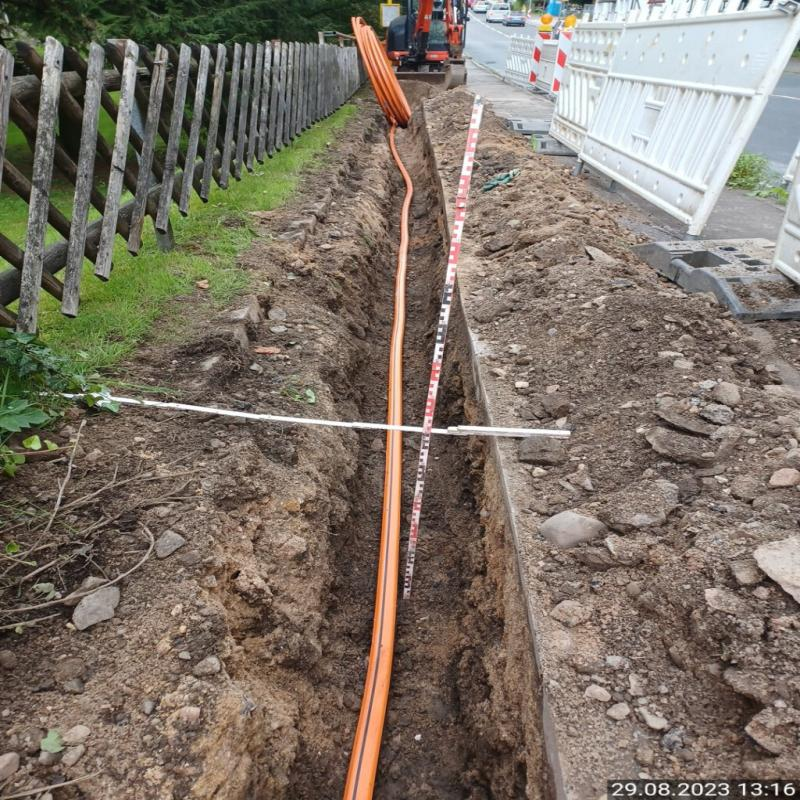Orang-Speednetrohrchen: (345, 224, 410, 800)
